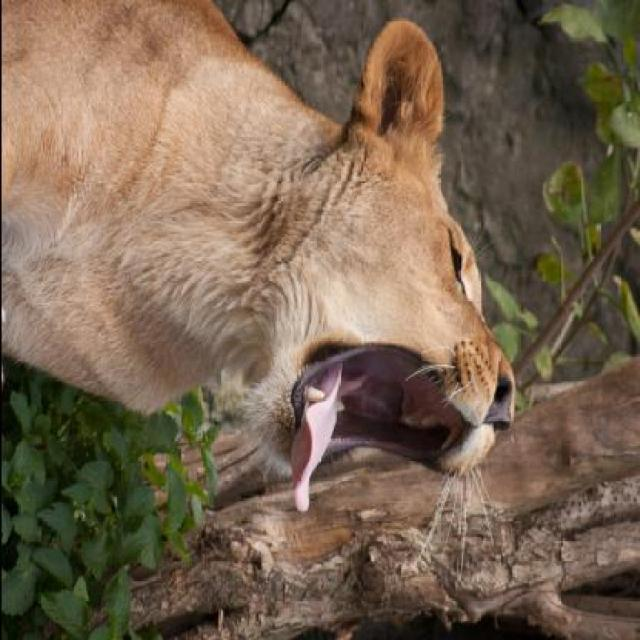Lion: (2, 1, 543, 552)
